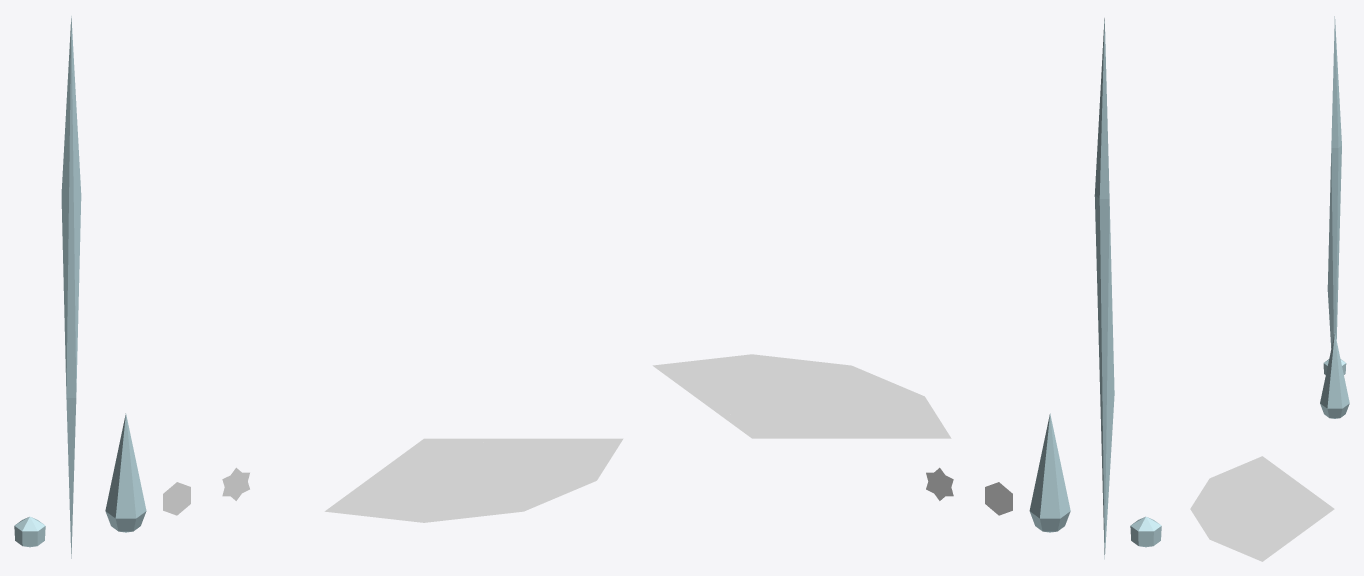
The model's file is partcl2.fbx.
3 renders of one model, left to right at view 1: azimuth 30°, elevation 25°; view 2: azimuth 150°, elevation 25°; view 3: azimuth 270°, elevation 25°, orthographic. The views are drawn at different scales.
Parts seen in each view (by area): view 1: EmitterOneThirdCircleFar, RainSharpParticle01, RainThickParticle01, EmitterOneThirdCircle, RainRoundParticle; view 2: EmitterOneThirdCircleFar, RainSharpParticle01, RainThickParticle01, EmitterOneThirdCircle, RainRoundParticle, SnowParticle01, SnowParticle02; view 3: EmitterOneThirdCircleFar, RainSharpParticle01, RainThickParticle01, EmitterOneThirdCircle.
Boxes of the visible parts, x1=… form: EmitterOneThirdCircleFar: x1=324, y1=438, x2=623, y2=522; RainSharpParticle01: x1=61, y1=16, x2=81, y2=558; RainThickParticle01: x1=105, y1=413, x2=146, y2=532; EmitterOneThirdCircle: x1=393, y1=438, x2=485, y2=464; RainRoundParticle: x1=14, y1=516, x2=45, y2=547; EmitterOneThirdCircleFar: x1=652, y1=354, x2=951, y2=438; RainSharpParticle01: x1=1094, y1=18, x2=1114, y2=559; RainThickParticle01: x1=1029, y1=413, x2=1070, y2=532; EmitterOneThirdCircle: x1=721, y1=412, x2=813, y2=438; RainRoundParticle: x1=1130, y1=516, x2=1161, y2=547; SnowParticle01: x1=985, y1=482, x2=1012, y2=515; SnowParticle02: x1=926, y1=467, x2=953, y2=500; EmitterOneThirdCircleFar: x1=1190, y1=456, x2=1311, y2=561; RainSharpParticle01: x1=1327, y1=16, x2=1341, y2=348; RainThickParticle01: x1=1320, y1=332, x2=1349, y2=418; EmitterOneThirdCircle: x1=1290, y1=492, x2=1334, y2=525.
Bounding box in the file's own units: 1033 × 974 × 355.
